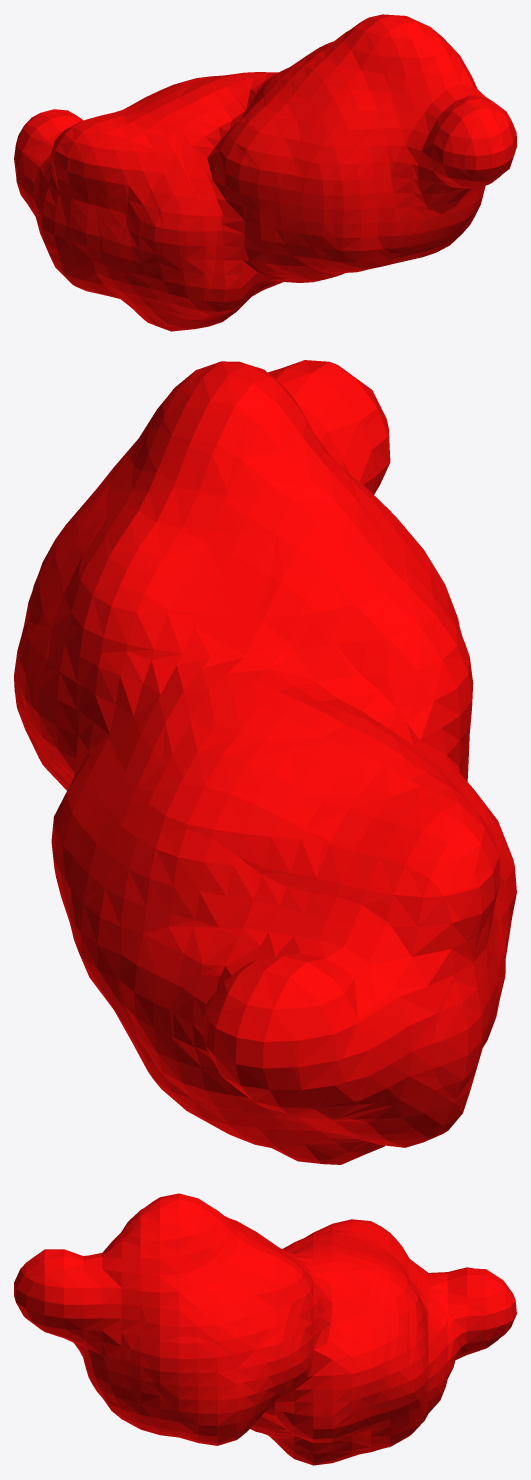
Rendered from Peptidyl_prolyl_cis_trans_isom_coarse.dae.
3 renders of one model, top to bottom at view 1: azimuth 30°, elevation 25°; view 2: azimuth 150°, elevation 25°; view 3: azimuth 270°, elevation 25°, orthographic. The views are drawn at different scales.
Parts seen in each view (by area): view 1: Peptidyl_prolyl_cis_trans_isom; view 2: Peptidyl_prolyl_cis_trans_isom; view 3: Peptidyl_prolyl_cis_trans_isom.
Part boxes in pixels (x1,y1,x2,y2): Peptidyl_prolyl_cis_trans_isom: (14,14,516,331); Peptidyl_prolyl_cis_trans_isom: (14,360,516,1164); Peptidyl_prolyl_cis_trans_isom: (14,1193,516,1465).
Size of the model in its own units: 71.77 by 68.94 by 97.39.
